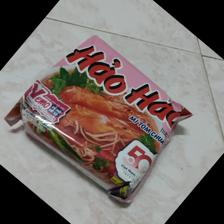Haohao: (4, 32, 193, 205)
